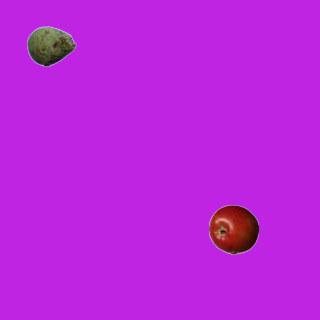Apple Braeburn: (208, 204, 258, 254)
Pear Stone: (26, 21, 76, 71)
